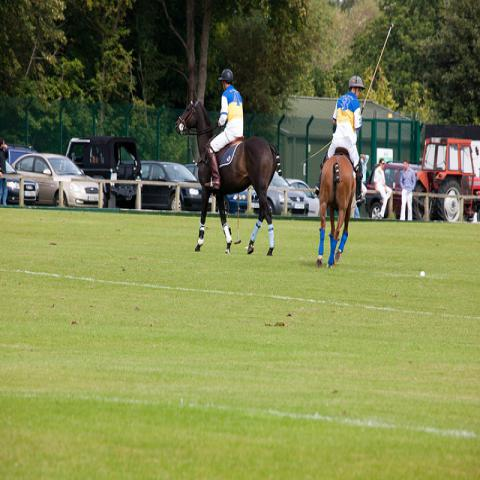car: (13, 150, 104, 208), (66, 134, 142, 199), (140, 161, 213, 212), (189, 166, 260, 212), (364, 157, 405, 219), (267, 170, 309, 216), (285, 178, 320, 216), (5, 161, 37, 201), (9, 144, 28, 170)
truck: (412, 135, 480, 221)
